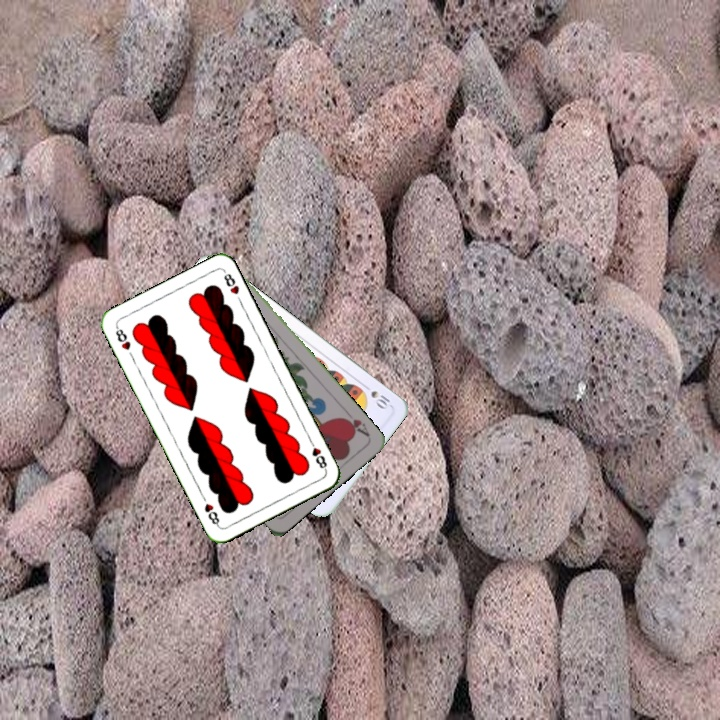H8: (305, 435, 330, 473), (111, 323, 133, 353)
HA: (338, 406, 372, 440)
S10: (366, 386, 393, 412)
